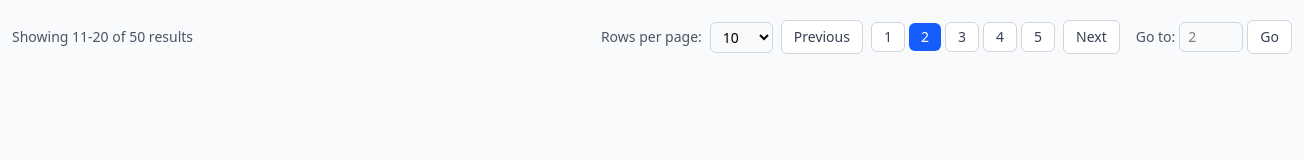
it: Pagination › jump to page › clears input after successful jump
Step 1. Type "4" into the number field labelled "Go to:" → (1211, 37), box [1179,22,1243,52]
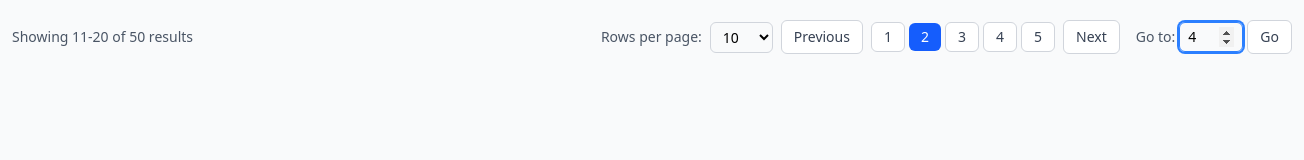
Step 2. Click the button "Go" → (1270, 37), box [1247,20,1292,54]
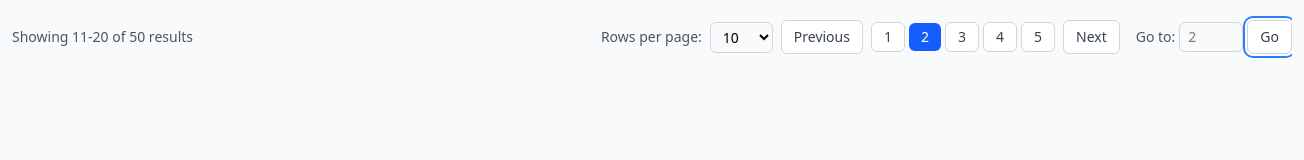
Result: the number field labelled "Go to:" is not empty at [1179,22,1243,52]
